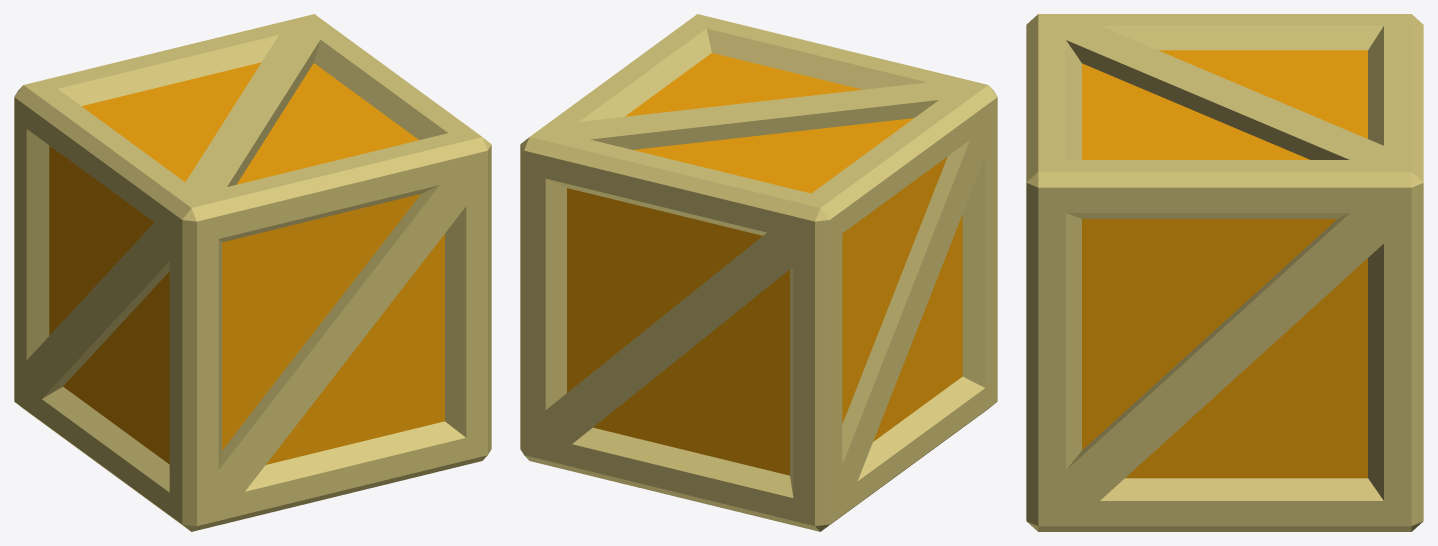
File: Crate.fbx
3 renders of one model, left to right at view 1: azimuth 30°, elevation 25°; view 2: azimuth 150°, elevation 25°; view 3: azimuth 270°, elevation 25°, orthographic. The views are drawn at different scales.
Visible parts, largest first — view 1: Cube; view 2: Cube; view 3: Cube.
Part boxes in pixels (box(x1,y1,x2,y2)): Cube: box(14, 14, 491, 531); Cube: box(520, 14, 997, 531); Cube: box(1026, 14, 1423, 531).
Bounding box in the file's own units: 200 × 200 × 200.
